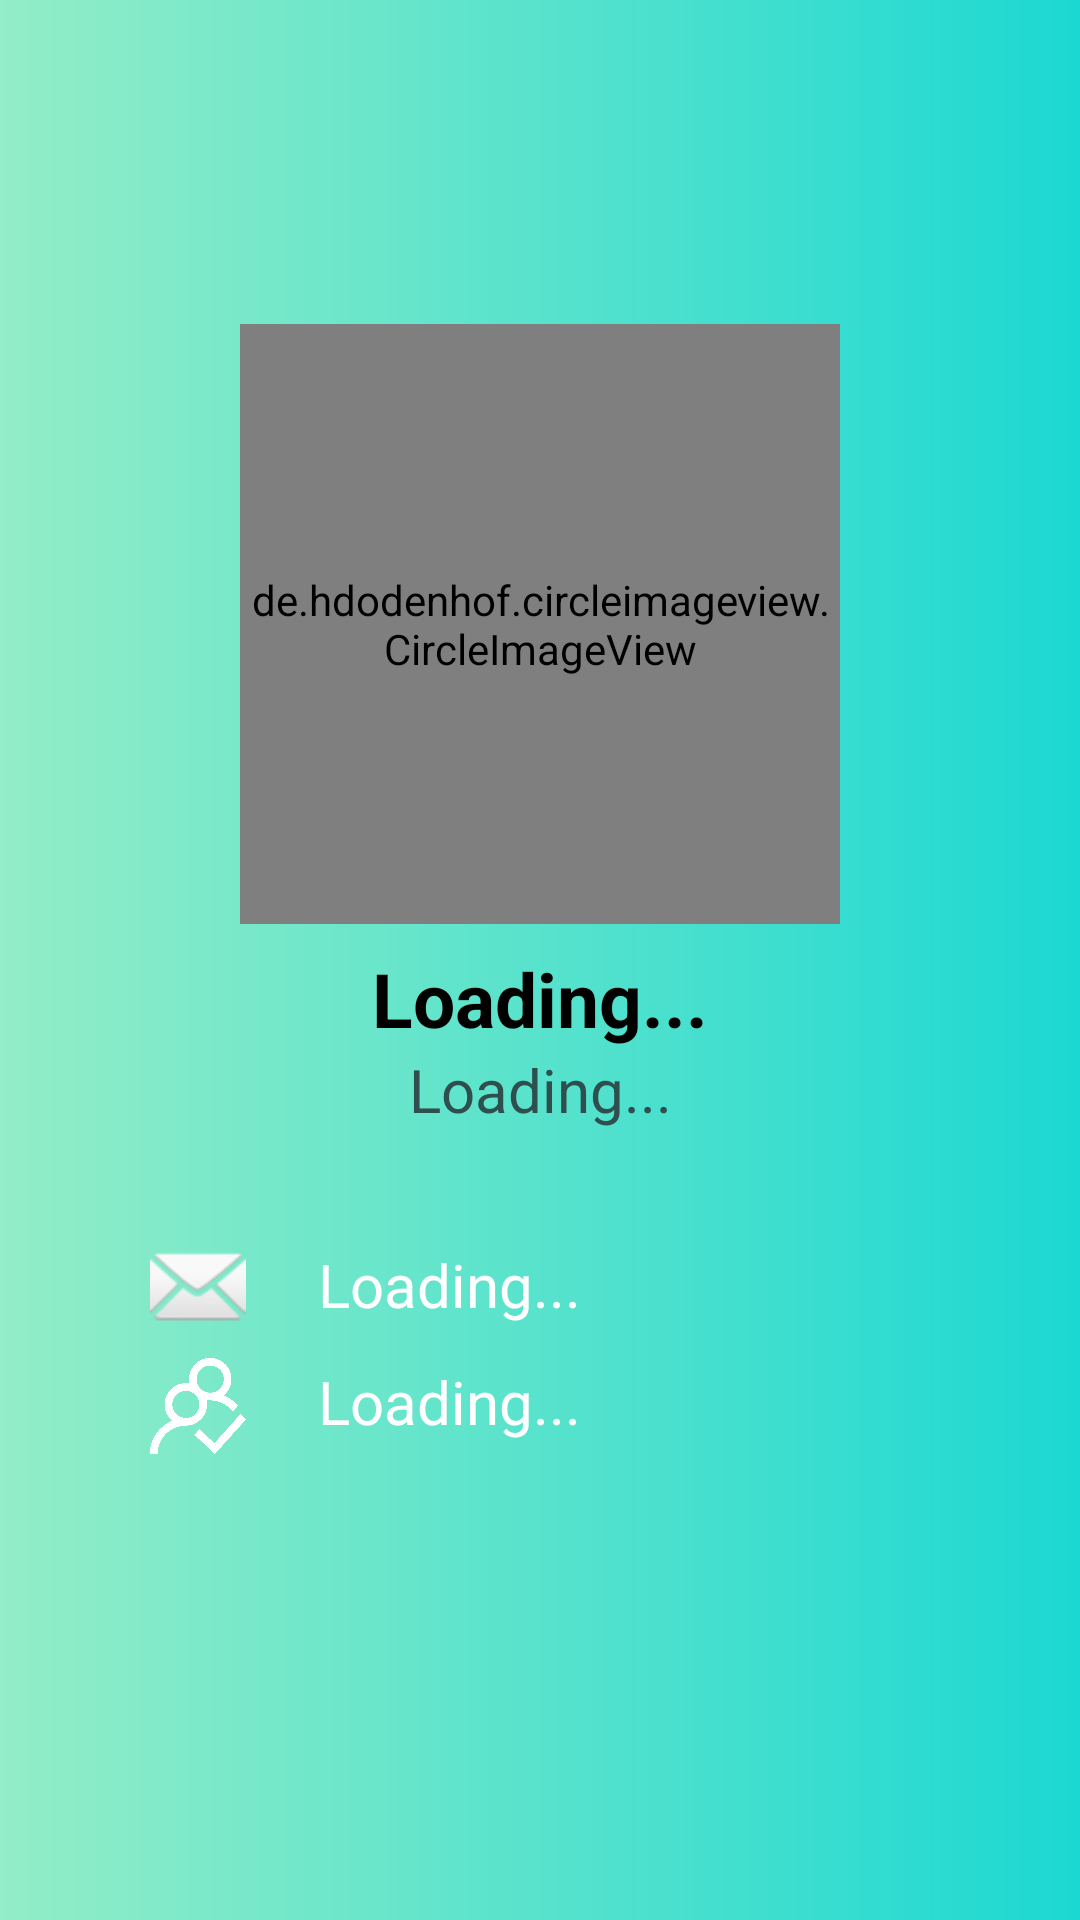

Named icons in this screenshot (1080px x 1920px) and their centers, (x=x, y=y):
Email: (x=198, y=1286)
Followers: (x=198, y=1406)
